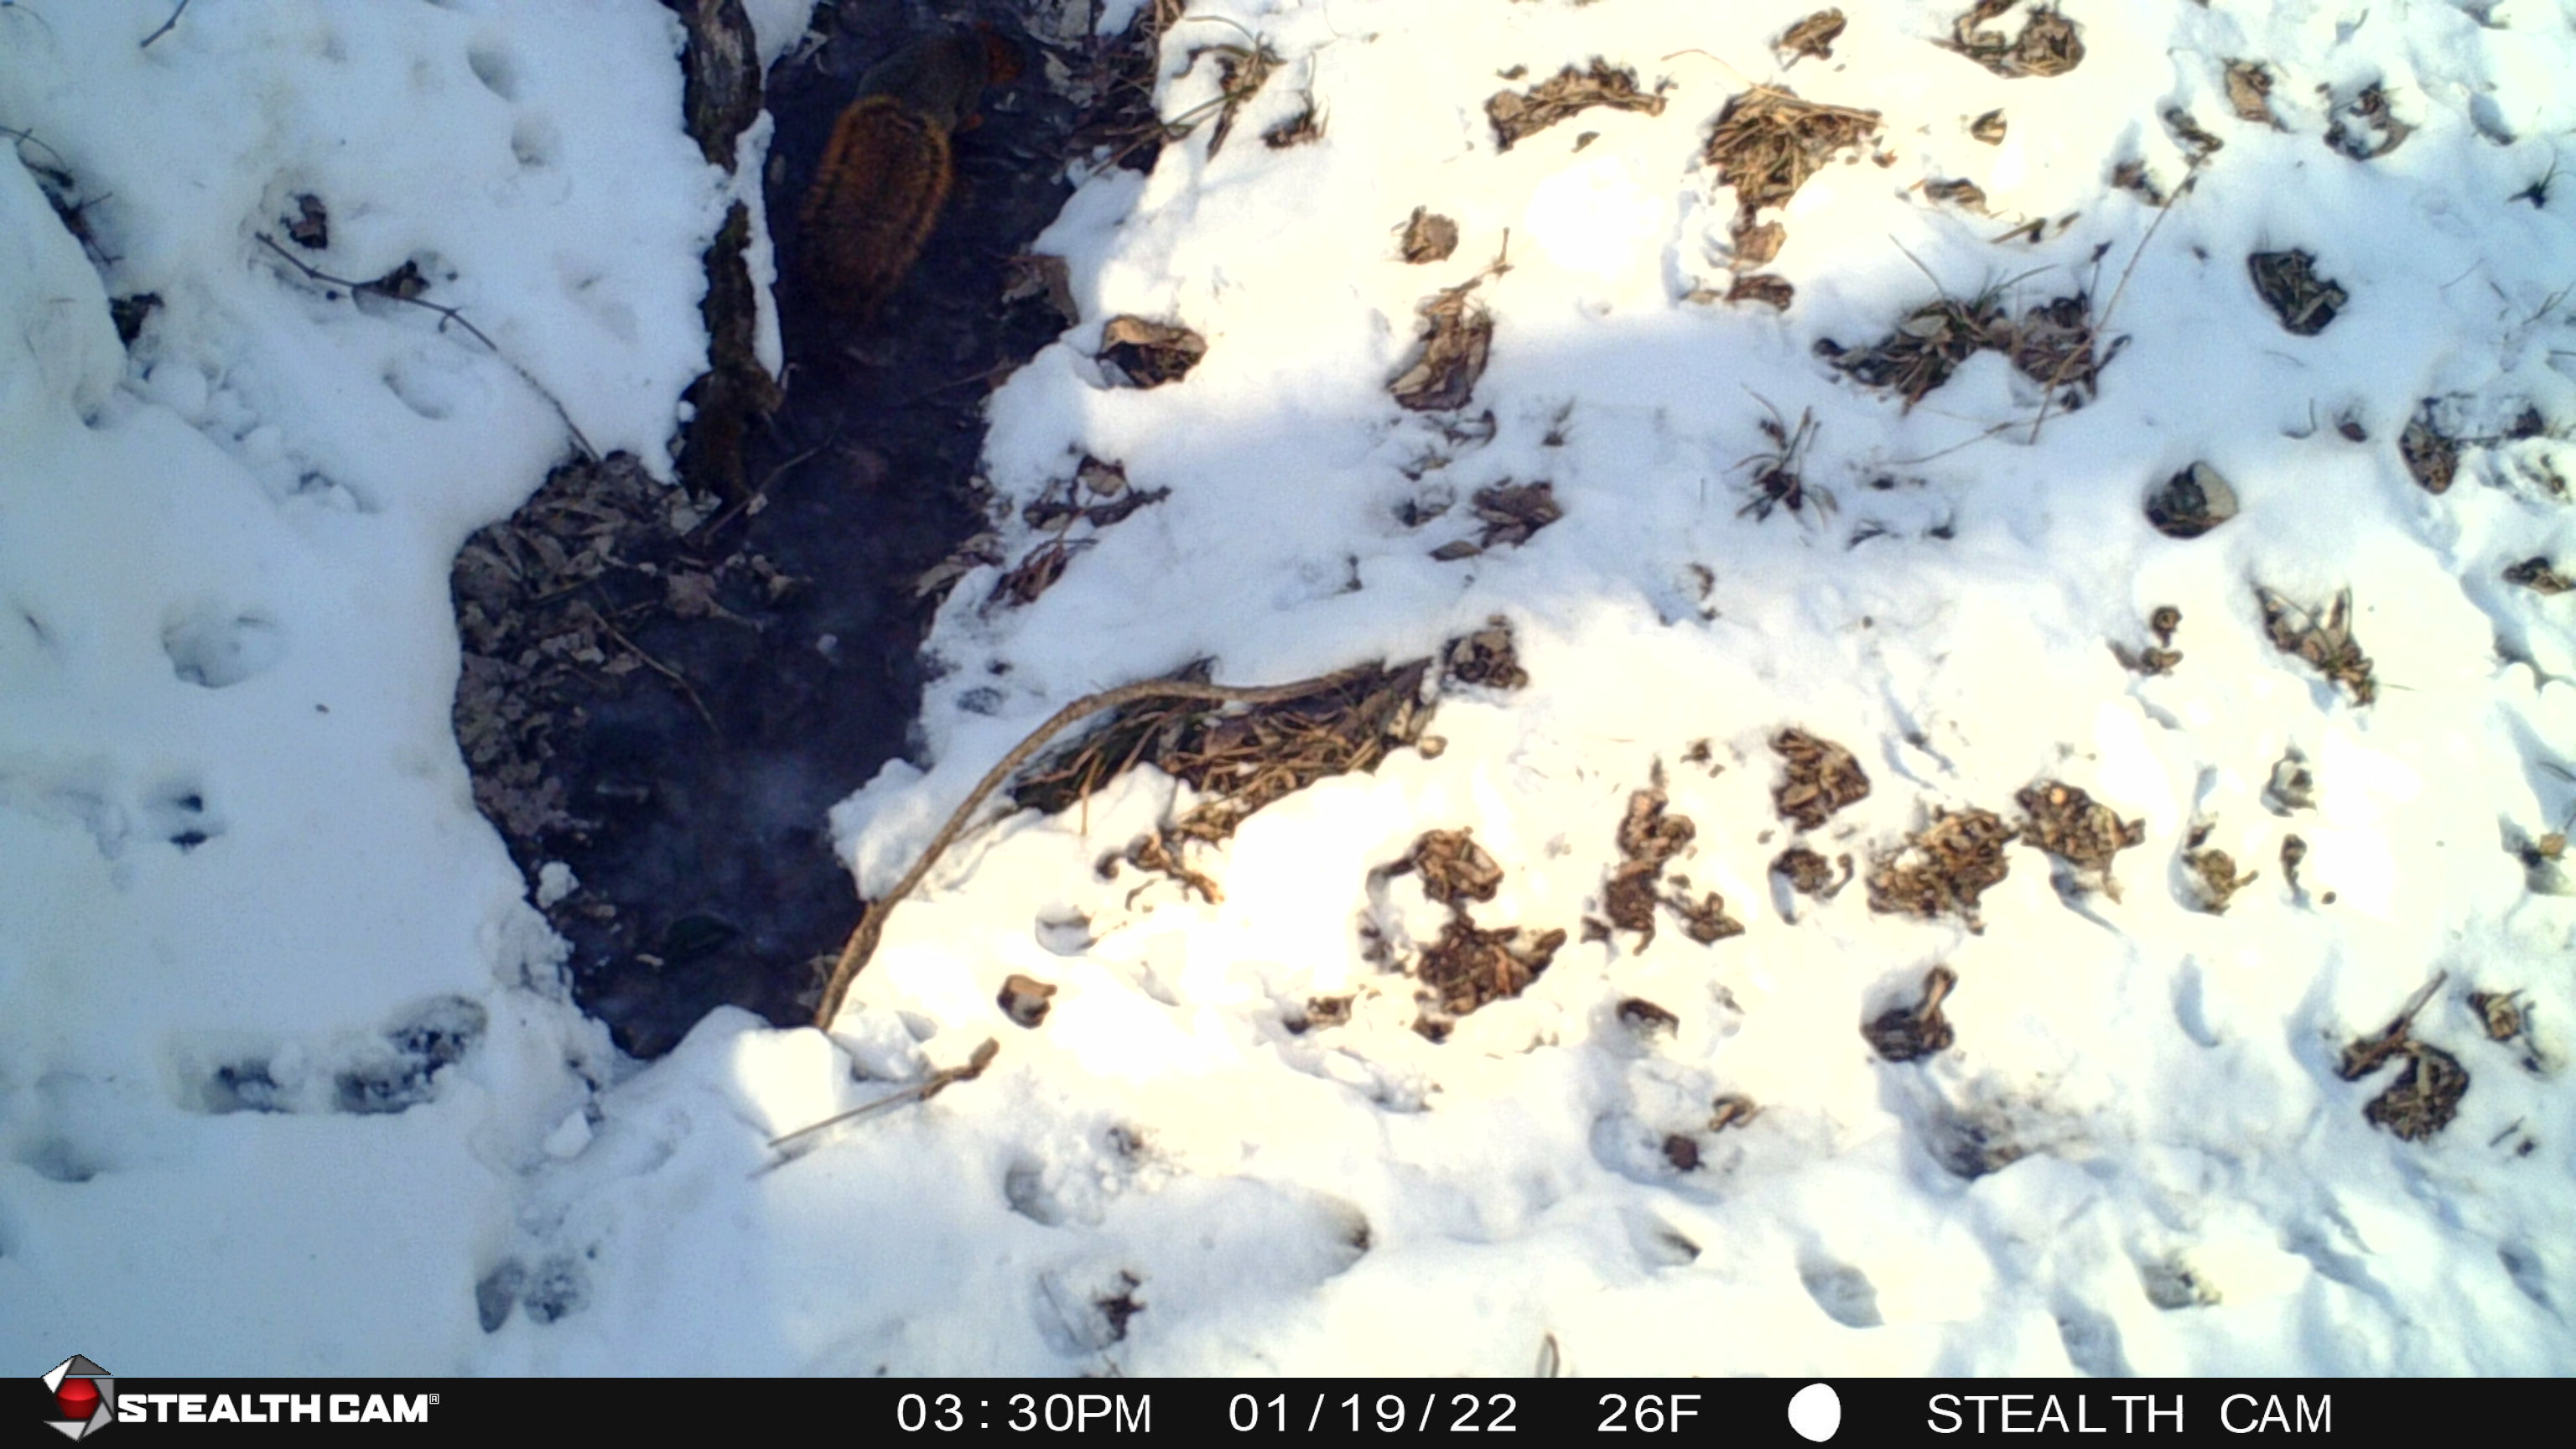Squirrel: (812, 18, 1051, 306)
